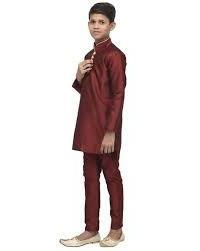Human: (59, 2, 136, 244)
